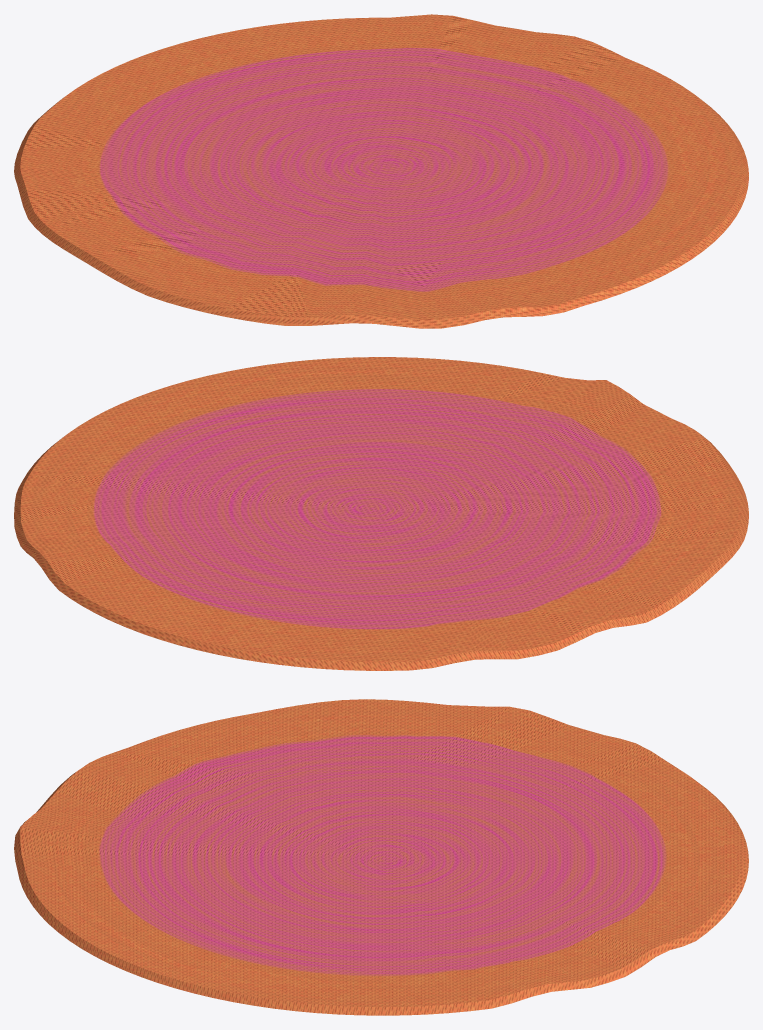
File: colorful_woven_round_rug__game-ready_3d_model.glb
3 views of the same model, one above another, from view 1: azimuth 30°, elevation 25°; view 2: azimuth 150°, elevation 25°; view 3: azimuth 270°, elevation 25° (orthographic).
Parts seen in each view (by area): view 1: Carpet; view 2: Carpet; view 3: Carpet.
Boxes of the visible parts, x1,y1,x2,y2 form: Carpet: [14, 14, 748, 328]; Carpet: [14, 357, 748, 670]; Carpet: [14, 699, 748, 1015].
Size of the model in its own units: 1.47 by 0.0297 by 1.47.
Materials: 1 (1 with a texture image).
